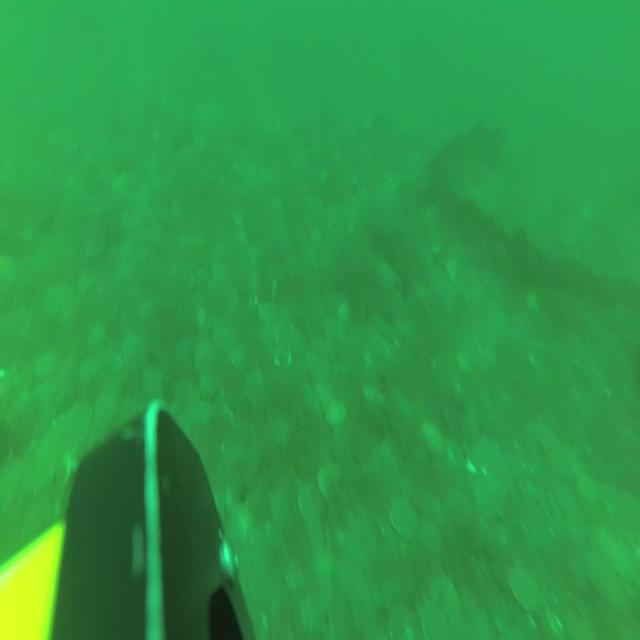scallop: (510, 564, 540, 616), (473, 476, 508, 515), (432, 576, 461, 618), (391, 498, 418, 543), (421, 602, 452, 640), (307, 571, 332, 617), (318, 459, 343, 504), (47, 280, 72, 322), (418, 520, 440, 560), (297, 486, 324, 518), (420, 497, 443, 534), (86, 320, 108, 356), (422, 422, 445, 454), (2, 252, 15, 306), (80, 353, 103, 383), (324, 400, 346, 431), (34, 352, 58, 380), (200, 367, 220, 399), (257, 301, 277, 332), (230, 343, 250, 373), (284, 562, 304, 591), (194, 342, 217, 366), (337, 299, 352, 327)
